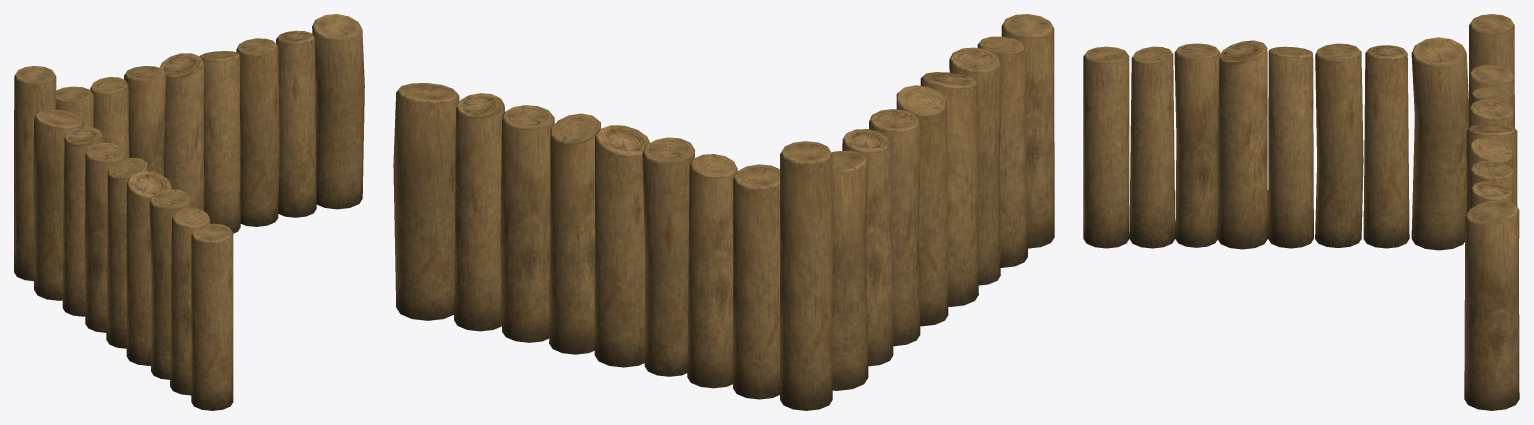
The model's file is FenceLow_Wood_Corner01.fbx.
3 renders of one model, left to right at view 1: azimuth 30°, elevation 25°; view 2: azimuth 150°, elevation 25°; view 3: azimuth 270°, elevation 25°, orthographic. The views are drawn at different scales.
Visible parts, largest first — view 1: Cylinder; view 2: Cylinder; view 3: Cylinder.
Part boxes in pixels (x1,y1,x2,y2): Cylinder: (14,14,364,410); Cylinder: (393,14,1054,410); Cylinder: (1083,14,1519,410).
Size of the model in its own units: 214 by 117 by 213.
